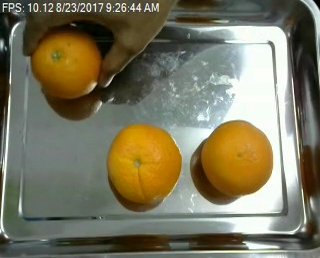Orange: (108, 122, 182, 203), (201, 119, 274, 196)
